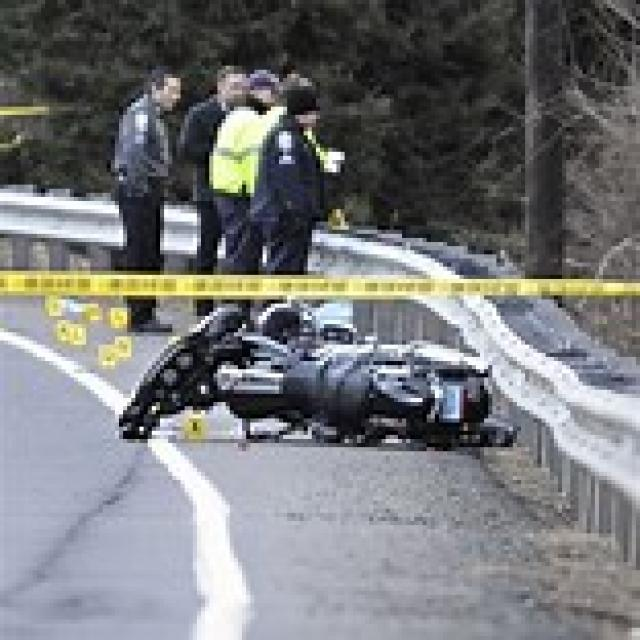Accident: (101, 221, 577, 519)
